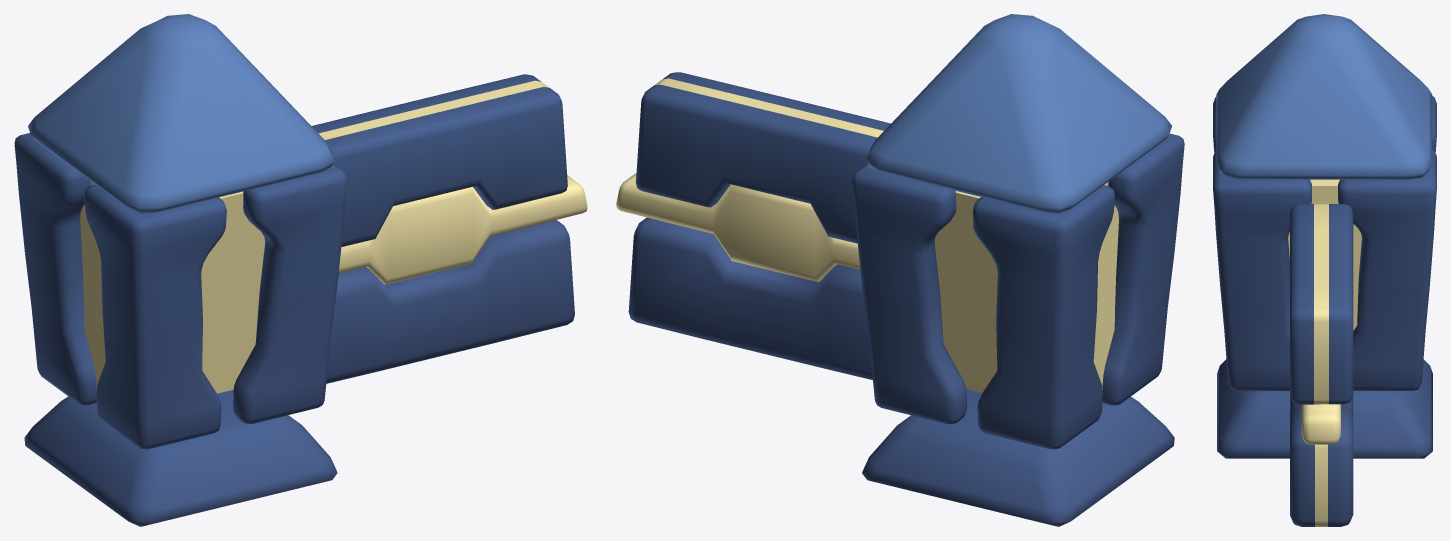
The model's file is feature_wall.fbx.
The picture shows the model from 3 angles, left to right: view 1: azimuth 30°, elevation 25°; view 2: azimuth 150°, elevation 25°; view 3: azimuth 270°, elevation 25°; orthographic projection. The views are drawn at different scales.
Visible parts, largest first — view 1: wall_1, wall_5, wall_6, wall_4, wall_3; view 2: wall_1, wall_5, wall_6, wall_4, wall_3; view 3: wall_1, wall_6, wall_5, wall_4, wall_3.
Boxes of the visible parts, x1,y1,x2,y2 form: wall_1: (14, 133, 347, 449); wall_5: (312, 74, 587, 383); wall_6: (28, 14, 334, 213); wall_4: (24, 390, 337, 526); wall_3: (80, 181, 265, 393); wall_1: (852, 133, 1184, 449); wall_5: (616, 72, 890, 379); wall_6: (865, 14, 1171, 213); wall_4: (862, 389, 1174, 526); wall_3: (934, 182, 1118, 392); wall_1: (1213, 96, 1436, 390); wall_6: (1216, 14, 1432, 179); wall_5: (1290, 204, 1353, 526); wall_4: (1217, 359, 1432, 458); wall_3: (1288, 179, 1361, 330).
Size of the model in its own units: 2.47 by 2.06 by 1.06.
